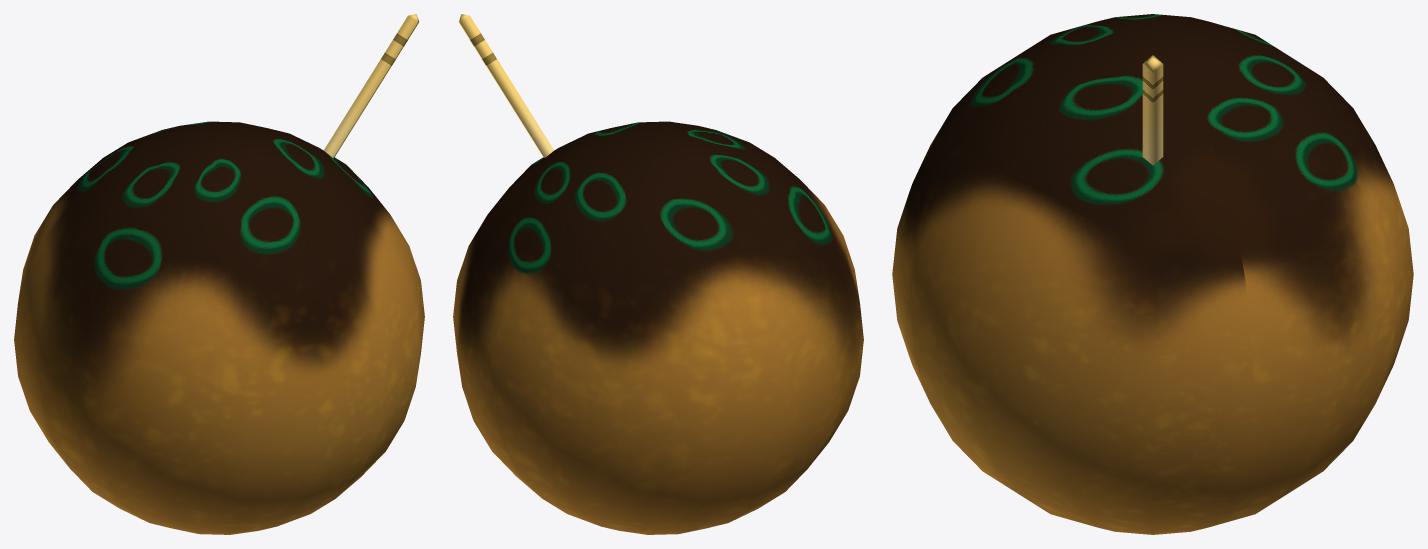
The model's file is takoyaki.fbx.
3 renders of one model, left to right at view 1: azimuth 30°, elevation 25°; view 2: azimuth 150°, elevation 25°; view 3: azimuth 270°, elevation 25°, orthographic. The views are drawn at different scales.
Parts seen in each view (by area): view 1: takoyaki; view 2: takoyaki; view 3: takoyaki.
Part boxes in pixels (bbox=[...]): takoyaki: bbox=[14, 14, 424, 534]; takoyaki: bbox=[453, 14, 863, 534]; takoyaki: bbox=[892, 14, 1413, 534].
Size of the model in its own units: 52.85 by 60.49 by 50.
Materials: 1 (1 with a texture image).
